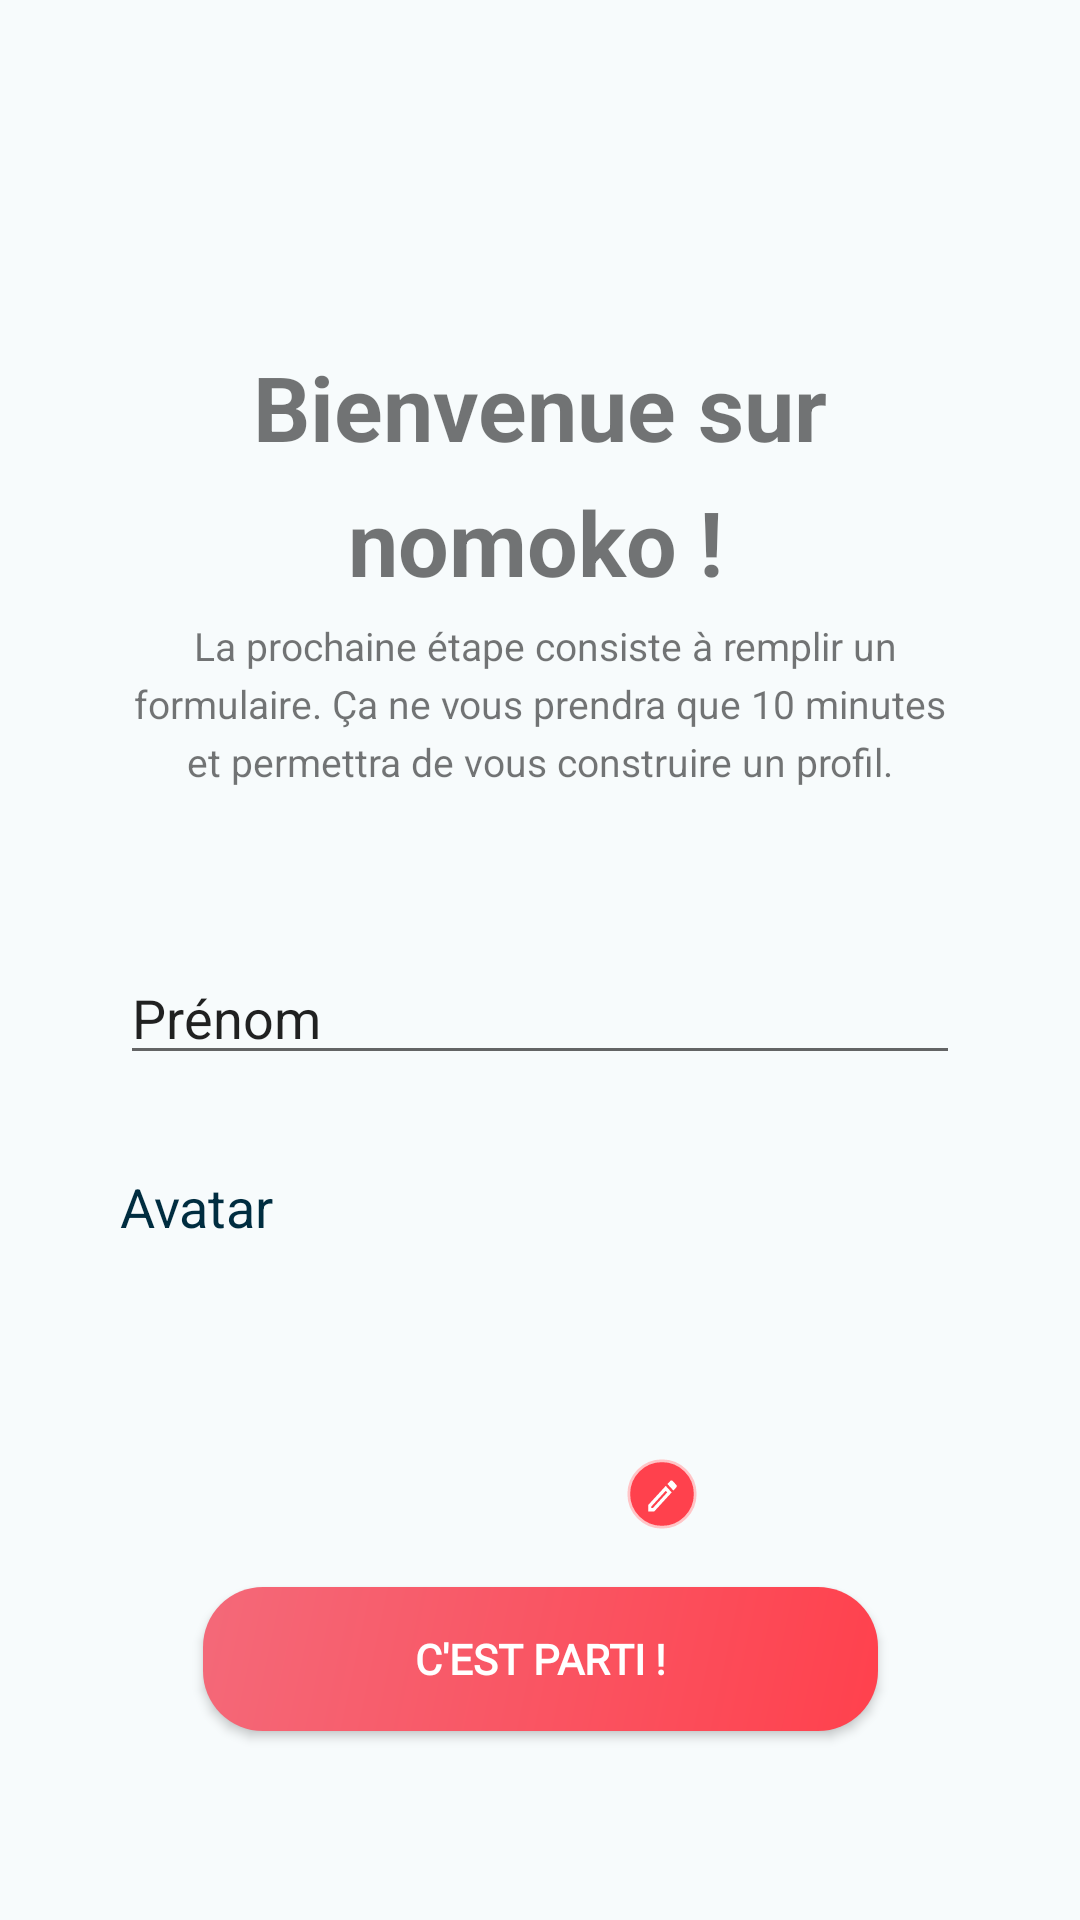

Where to tap for icons on this 1080 x 1920 app screen, as (x,y):
edit: (662,1494)
